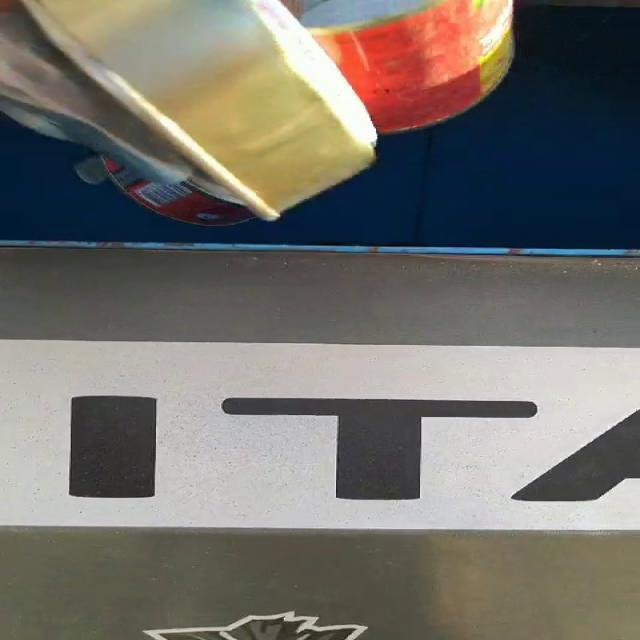Other: (0, 1, 336, 10)
